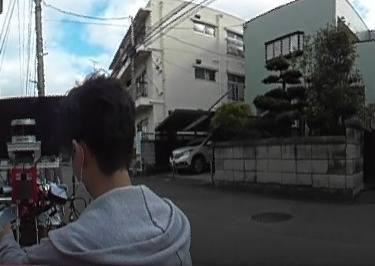person: (18, 73, 199, 266)
